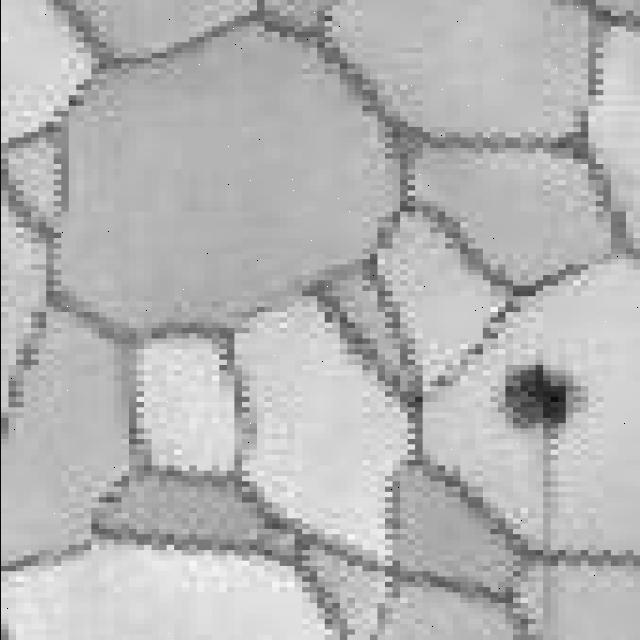good_void: (483, 362, 587, 439)
